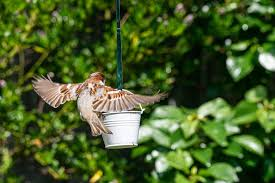hsparrow: (29, 68, 171, 137)
